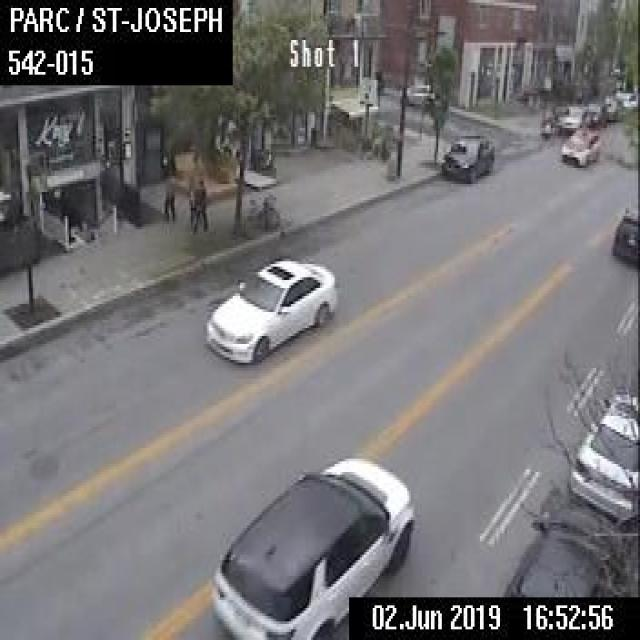pedestrian: (189, 176, 207, 232), (160, 160, 175, 221)
vehicle: (207, 448, 413, 637), (202, 253, 338, 363), (500, 495, 621, 595), (566, 391, 638, 521), (440, 130, 495, 178), (609, 203, 638, 261), (560, 126, 598, 167), (557, 105, 590, 132), (404, 80, 434, 107), (586, 100, 606, 126), (614, 89, 638, 110), (602, 96, 622, 120)
